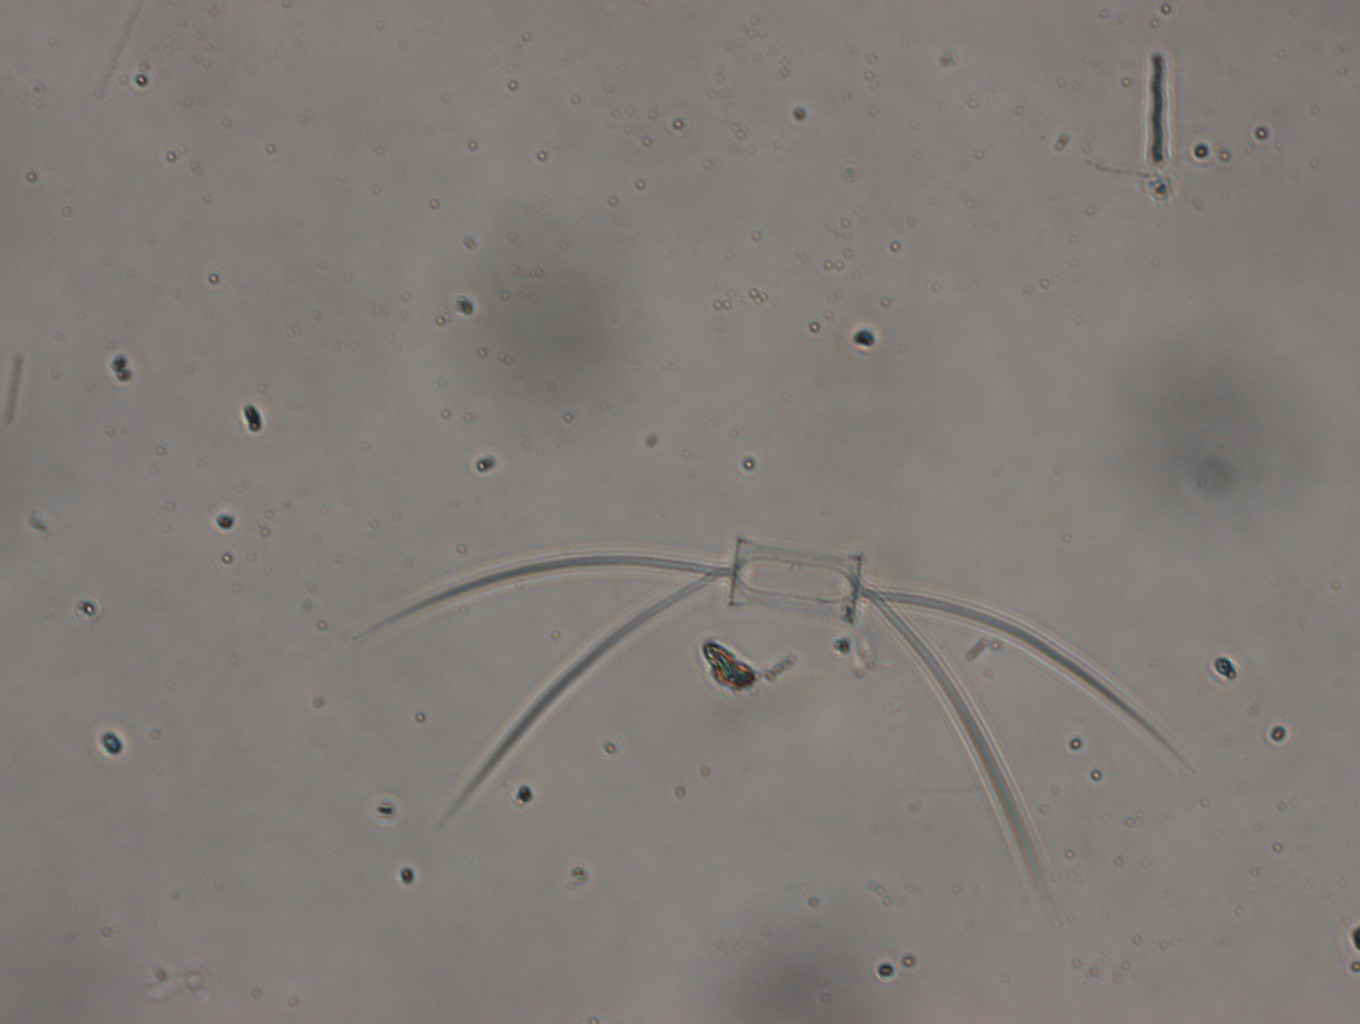chaetoceros: (372, 525, 1188, 904)
